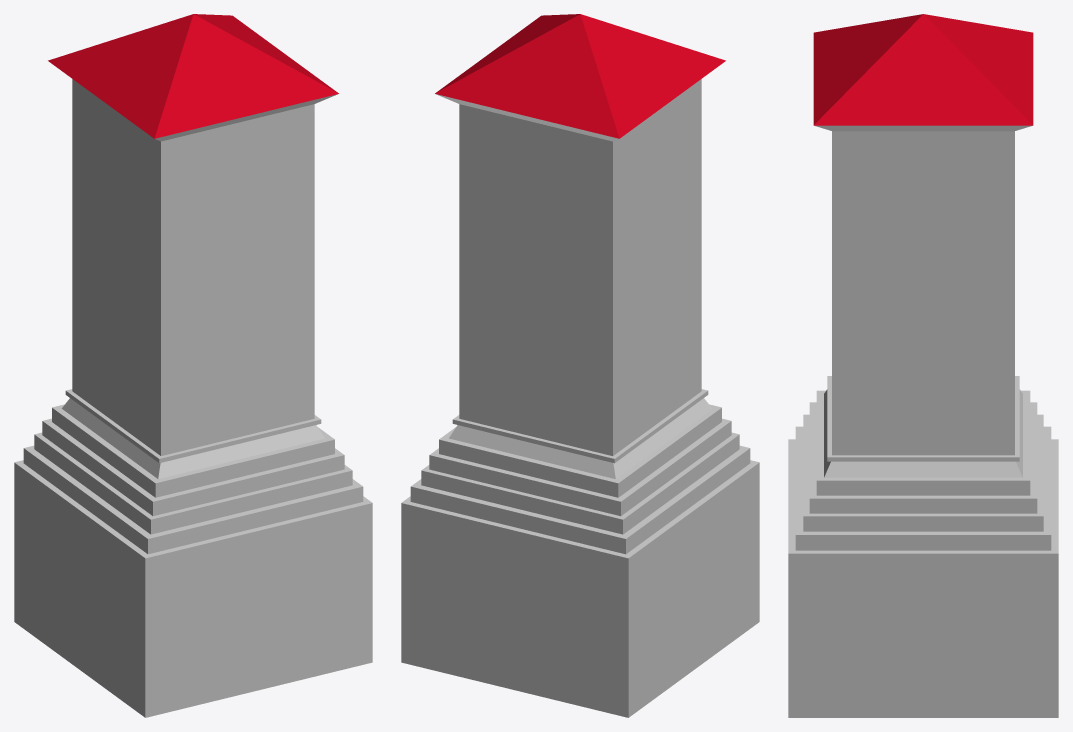
3 renders of one model, left to right at view 1: azimuth 30°, elevation 25°; view 2: azimuth 150°, elevation 25°; view 3: azimuth 270°, elevation 25°, orthographic. The views are drawn at different scales.
Visible parts, largest first — view 1: Cube; view 2: Cube; view 3: Cube.
Part boxes in pixels (<box>): Cube: <box>14,14,372,717</box>; Cube: <box>401,14,759,717</box>; Cube: <box>788,14,1058,717</box>.
Bounding box in the file's own units: 3.31 × 8.74 × 3.31.
